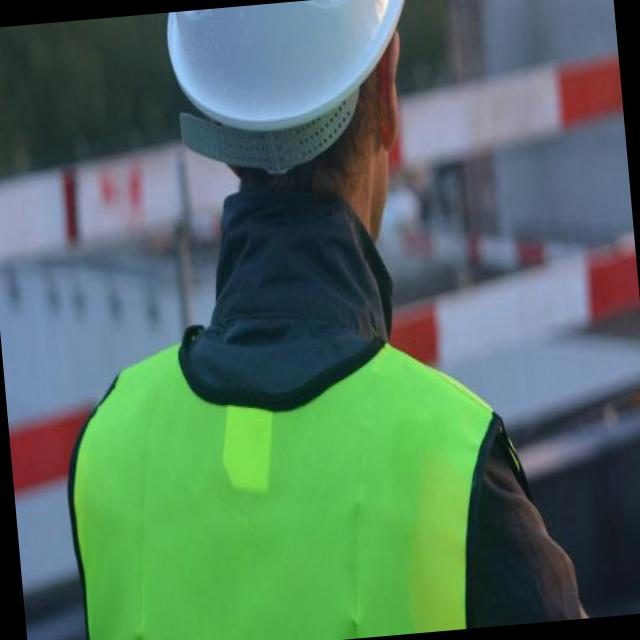Helmet: (151, 0, 446, 157)
Vest: (64, 298, 548, 640)
